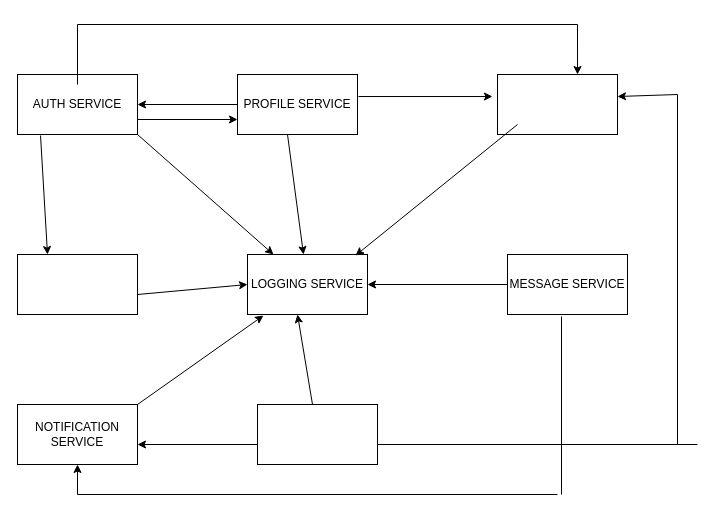
This 716x520 diagram has some shape labels left out. The shapes that lost their labels are listed below. From the top down, each one's centre as x and y in pixels, then its label:
[557,104]: CONNECTION SERVICE
[77,284]: JOB OFFER SERVICE
[317,434]: POST SERVICE
